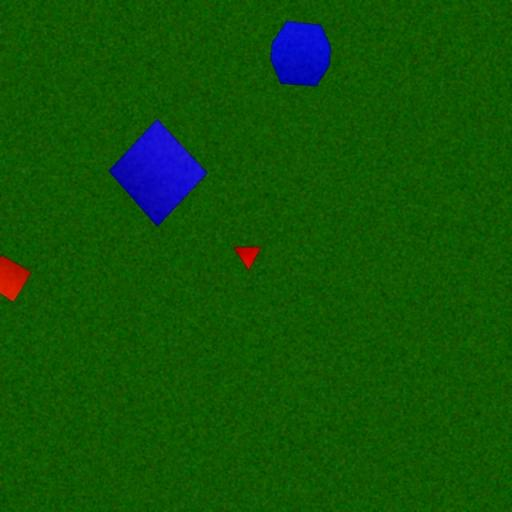BLUE_SQUARE: (108, 118, 208, 228)
RED_SQUARE: (0, 254, 32, 303)
